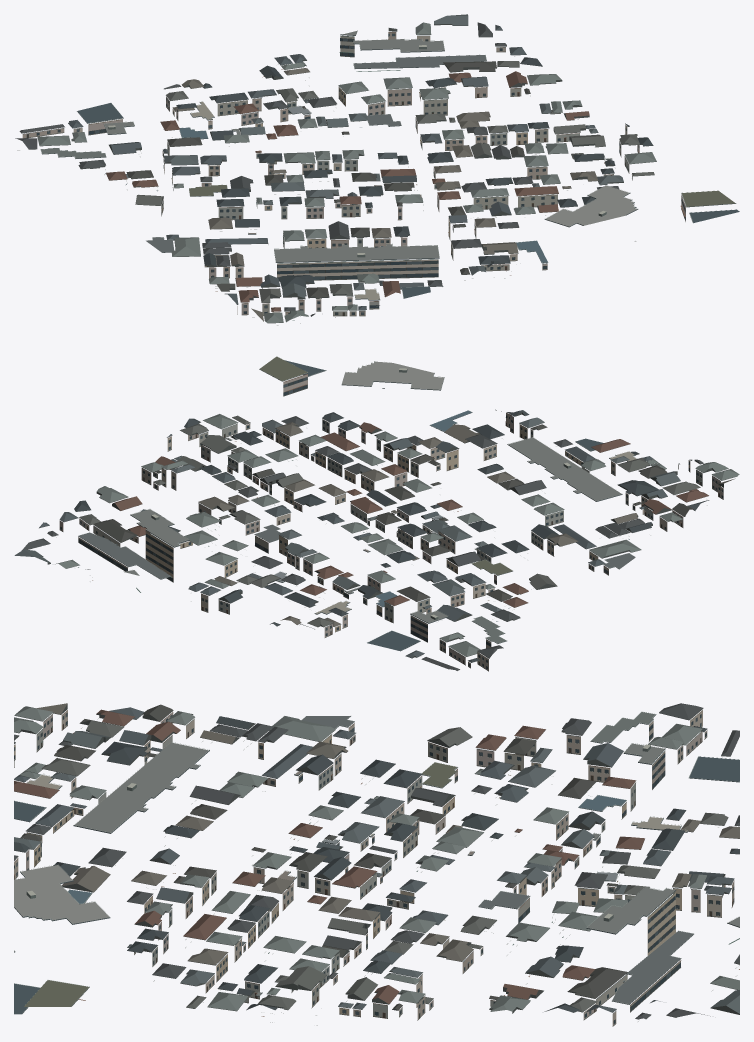
3 renders of one model, top to bottom at view 1: azimuth 30°, elevation 25°; view 2: azimuth 150°, elevation 25°; view 3: azimuth 270°, elevation 25°, orthographic. The views are drawn at different scales.
Visible parts, largest first — view 1: r0-c6; view 2: r0-c6; view 3: r0-c6.
Boxes of the visible parts, bbox=[...] form: r0-c6: bbox=[15, 14, 739, 325]; r0-c6: bbox=[14, 356, 739, 671]; r0-c6: bbox=[14, 703, 739, 1026].
Size of the model in its own units: 250 by 21.19 by 250.
